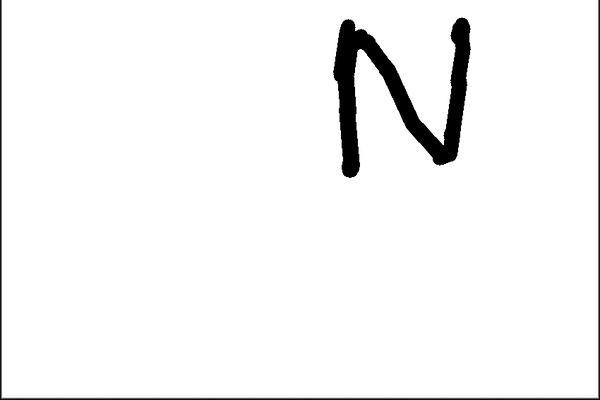N: (327, 8, 474, 183)
